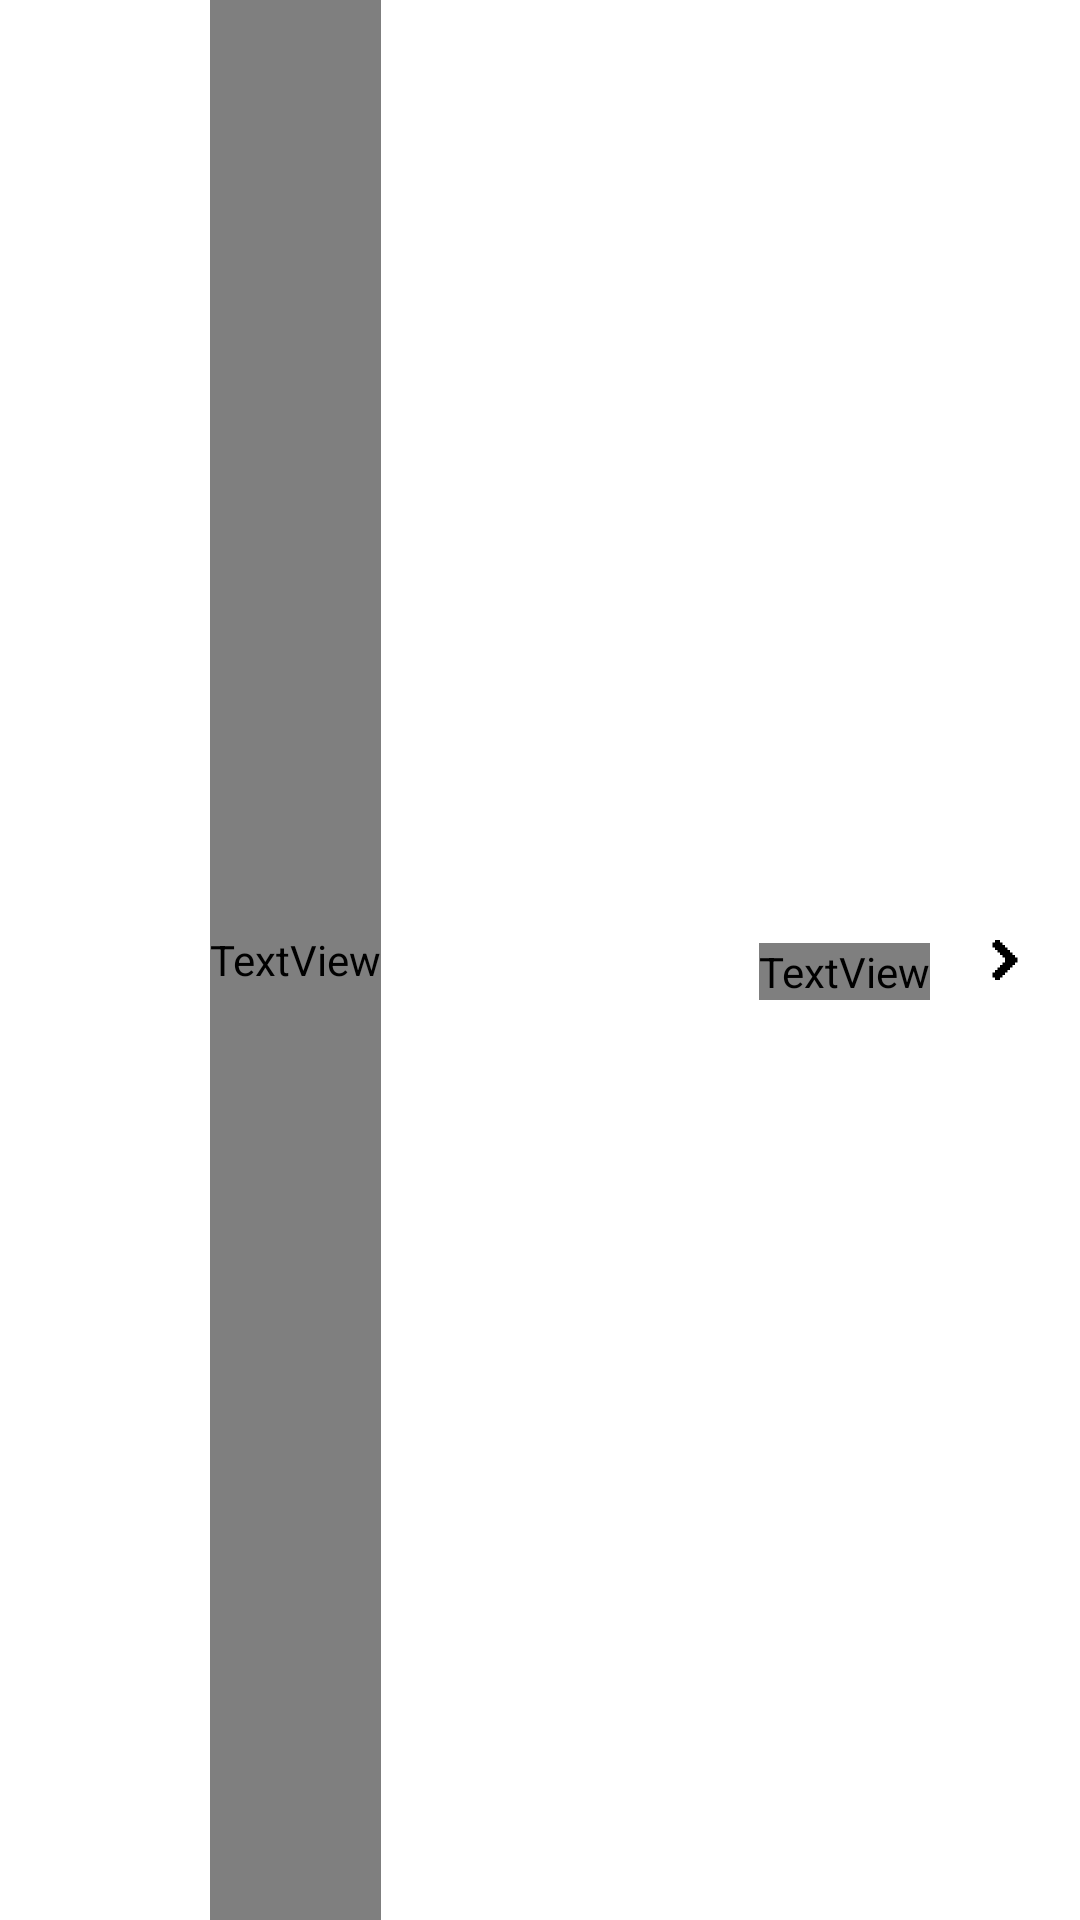

Icons on this 1080x1920 Android screen, each with its box as [left=x1, top=y1, right=x2, bottom=y2]:
angle right: [left=992, top=940, right=1018, bottom=980]
